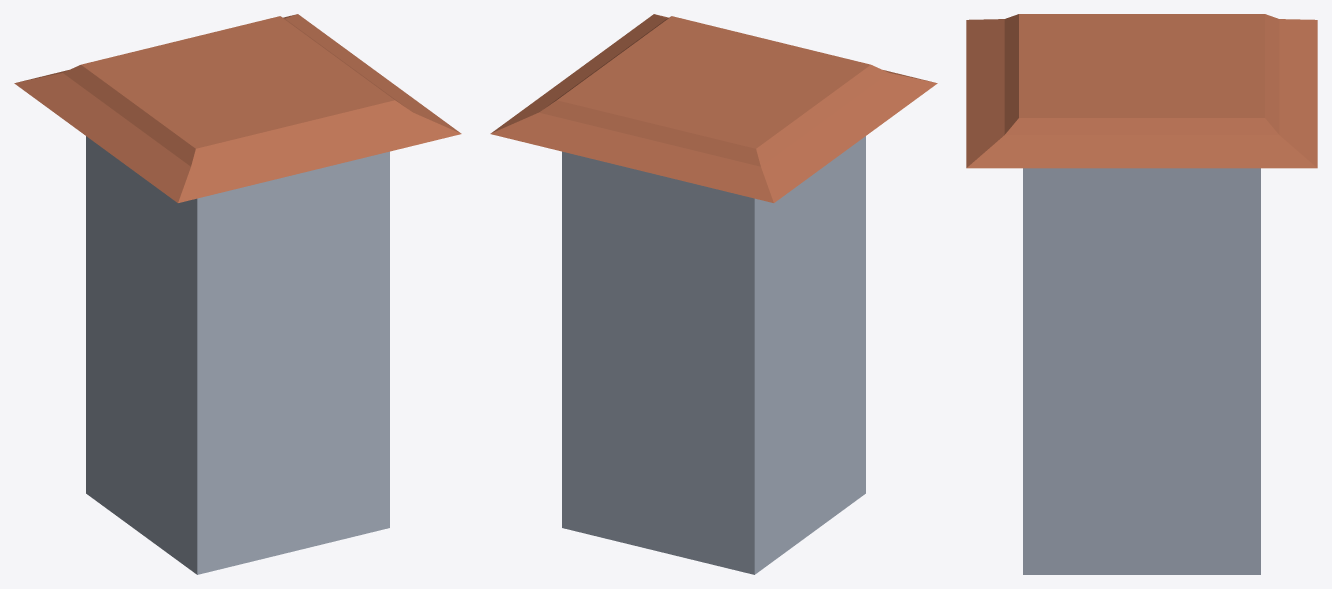
Rendered from bg_build1.fbx.
3 views of the same model, side by side, from view 1: azimuth 30°, elevation 25°; view 2: azimuth 150°, elevation 25°; view 3: azimuth 270°, elevation 25° (orthographic). The views are drawn at different scales.
Visible parts, largest first — view 1: Cube.010; view 2: Cube.010; view 3: Cube.010.
Boxes of the visible parts, <box> form: Cube.010: <box>14,14,461,574</box>; Cube.010: <box>490,14,937,574</box>; Cube.010: <box>966,14,1317,574</box>.
Size of the model in its own units: 1180 by 1701 by 1180.
